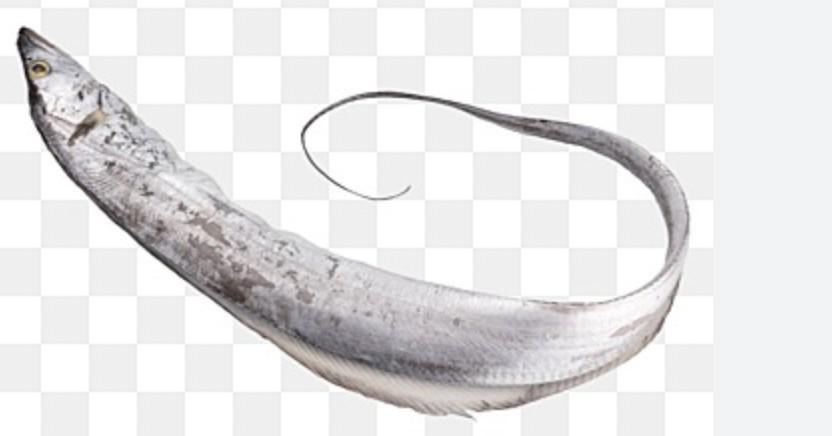fish: (17, 27, 689, 417)
